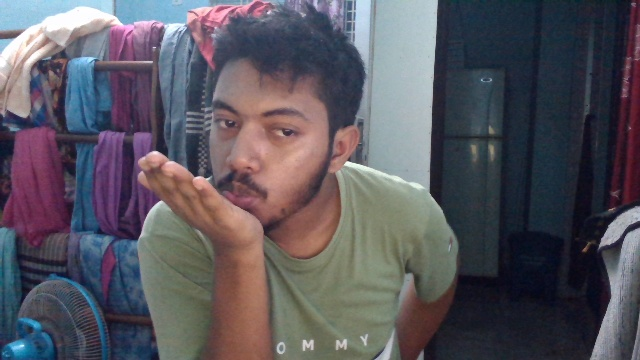iloveu: (133, 8, 384, 227)
